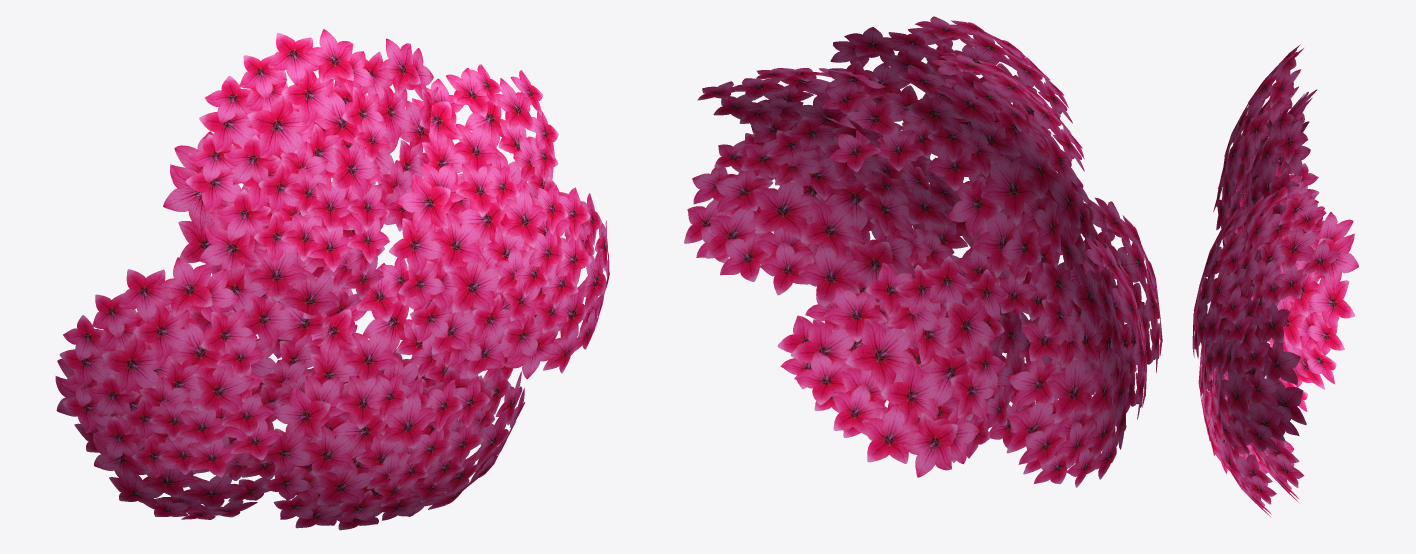
File: SM_Flowers_02.fbx
The picture shows the model from 3 angles, left to right: view 1: azimuth 30°, elevation 25°; view 2: azimuth 150°, elevation 25°; view 3: azimuth 270°, elevation 25°; orthographic projection. The views are drawn at different scales.
Visible parts, largest first — view 1: SM_Flowers_02_LOD0; view 2: SM_Flowers_02_LOD0; view 3: SM_Flowers_02_LOD0.
Part boxes in pixels (box(x1,y1,x2,y2)): SM_Flowers_02_LOD0: box(55, 29, 609, 530); SM_Flowers_02_LOD0: box(684, 16, 1162, 487); SM_Flowers_02_LOD0: box(1192, 44, 1358, 517).
Bounding box in the file's own units: 181 × 71.73 × 164.
Materials: 1 (1 with a texture image).
